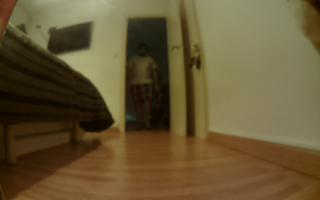person: (129, 43, 157, 128)
